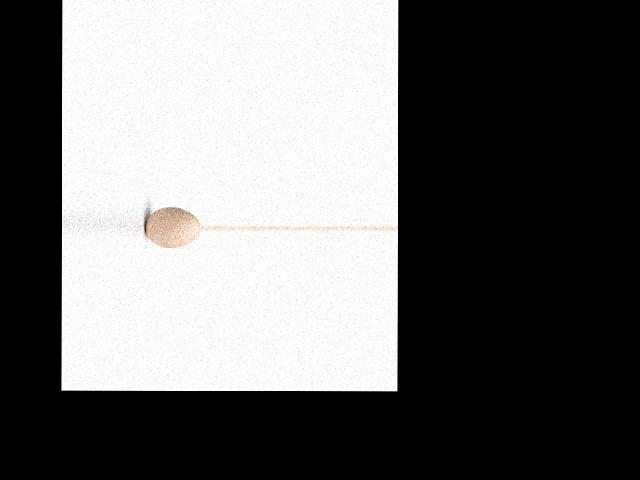egg: (144, 207, 200, 248)
